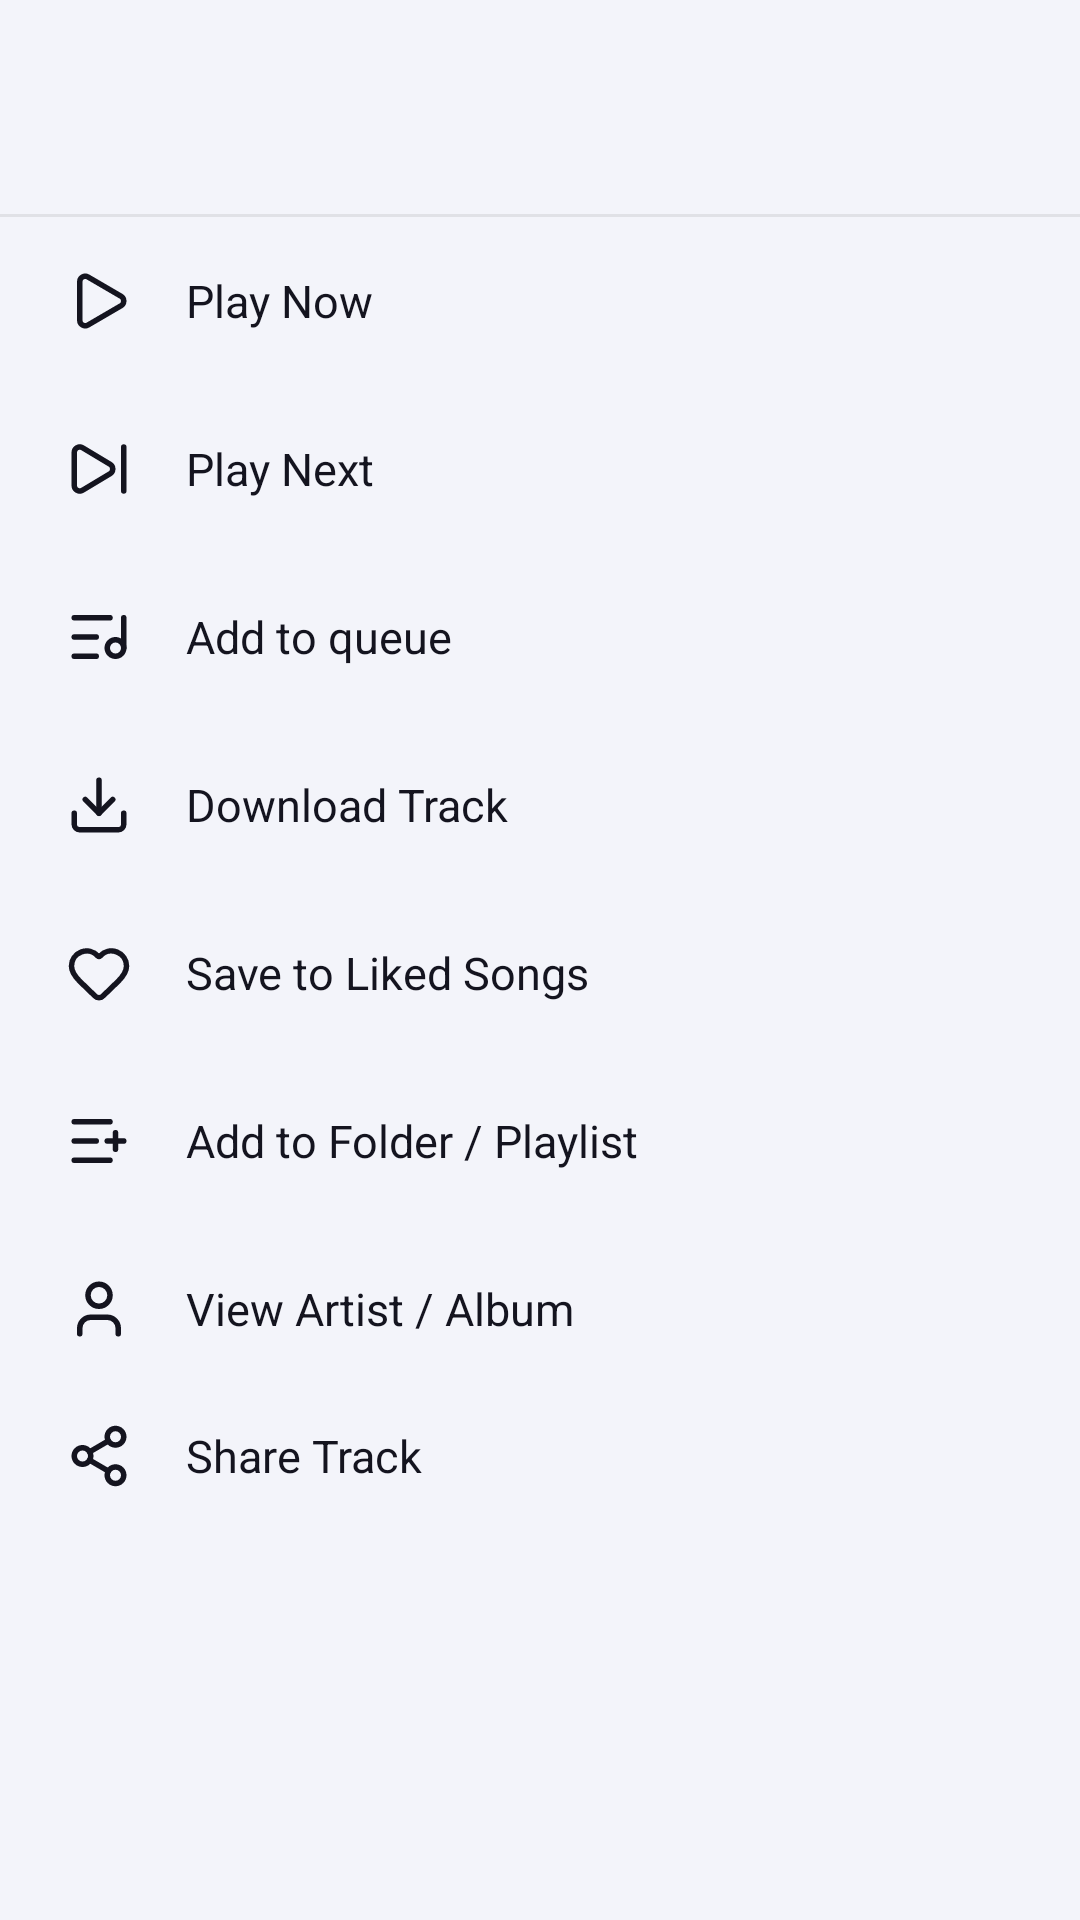

Icons on this 1080×1920 Android screen, each with its box as (x1, y1, x2, y2):
favorite border: (68, 948, 130, 1001)
person: (77, 1281, 121, 1337)
skip next: (71, 444, 127, 494)
